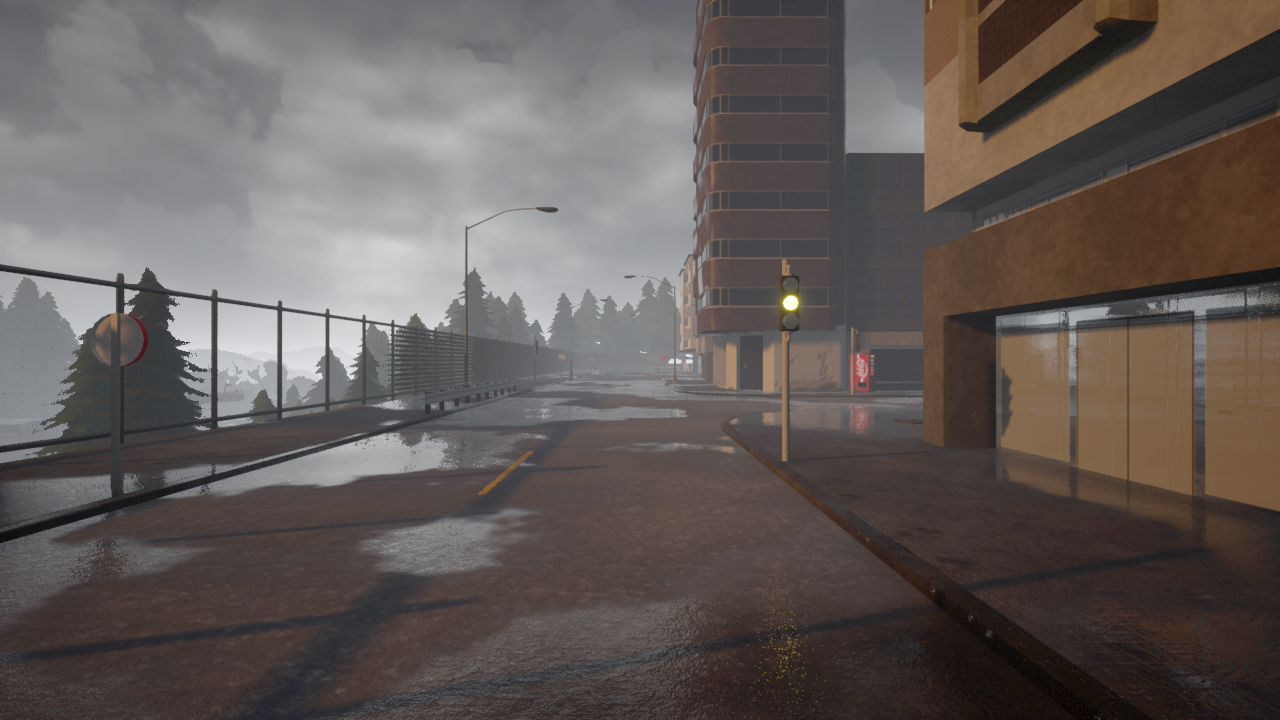yellow: (775, 274, 799, 335)
